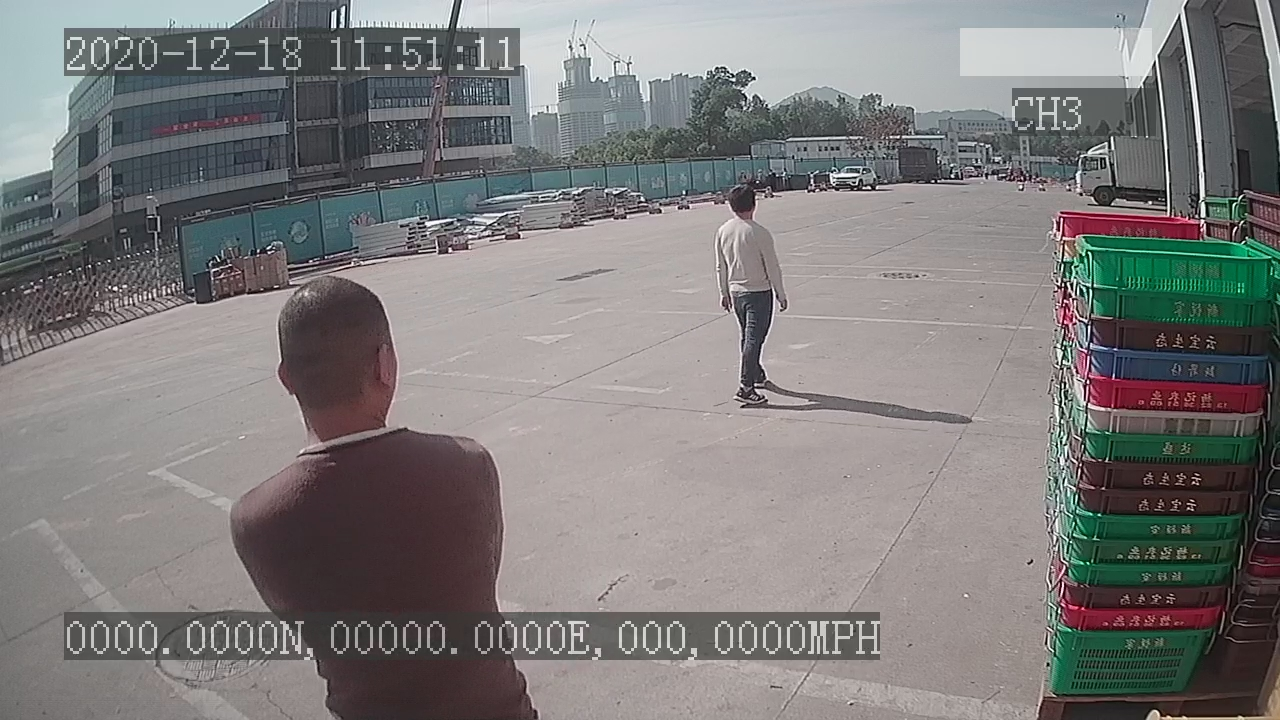person: (709, 177, 792, 413)
